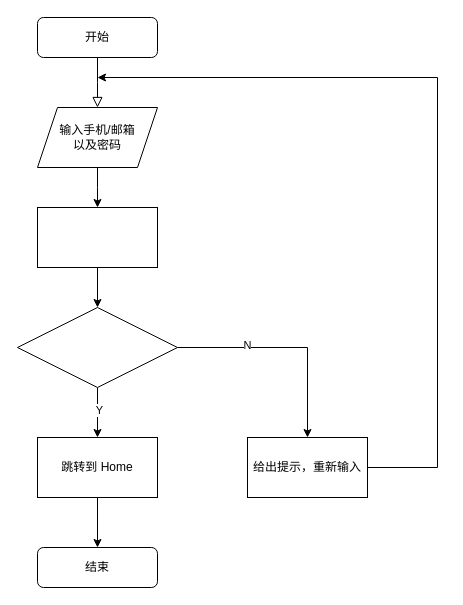
Some shapes in this 463 by 605 pixel diagram are drawn without their labels. The box of each missing label's shape, as (x1, y1, x2, y2) in pixels:
发送接口: (36, 206, 158, 268)
登陆是否成功？: (16, 306, 178, 388)
